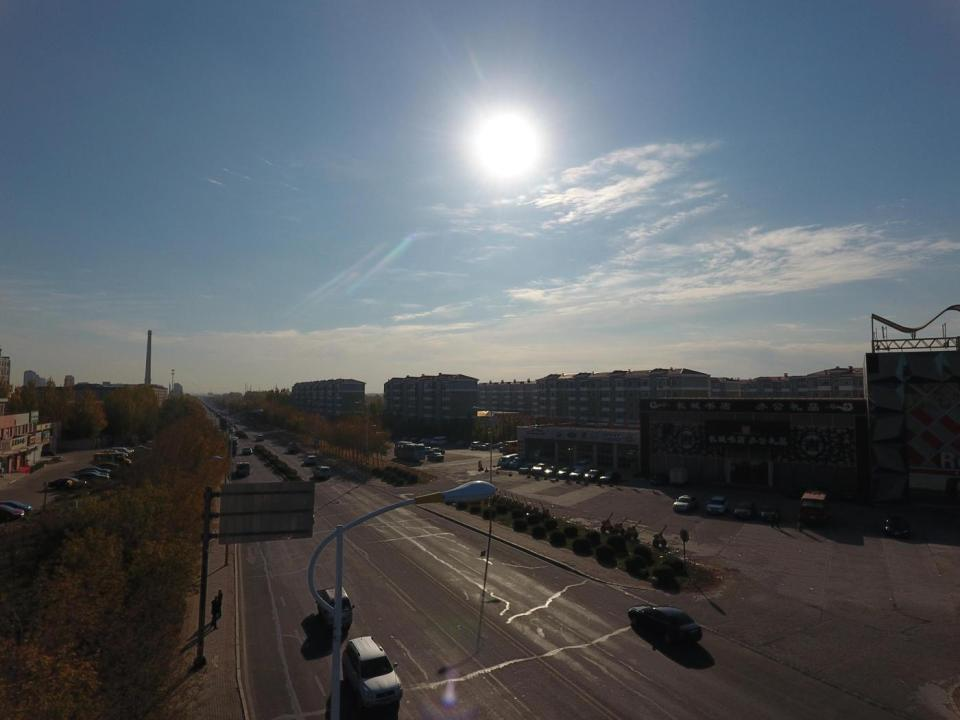bus: (800, 488, 832, 527), (394, 441, 425, 461), (93, 452, 132, 467), (503, 439, 532, 453)
car: (343, 636, 402, 707), (628, 604, 702, 643), (886, 513, 912, 538), (707, 494, 729, 517), (734, 501, 758, 520), (47, 478, 87, 489), (71, 472, 110, 483), (75, 467, 110, 479), (673, 496, 699, 511), (760, 504, 780, 523), (0, 504, 23, 520), (76, 470, 110, 480), (90, 462, 118, 473), (102, 450, 128, 461), (599, 470, 619, 482), (583, 469, 603, 481), (518, 463, 538, 474), (557, 467, 576, 478), (572, 460, 592, 470), (532, 463, 550, 474), (314, 466, 332, 477), (569, 469, 588, 479), (544, 466, 563, 476), (426, 452, 445, 462), (500, 443, 516, 453), (36, 450, 55, 458), (130, 446, 153, 452), (303, 455, 317, 464), (420, 446, 435, 454), (429, 448, 445, 454), (480, 442, 493, 449), (471, 441, 484, 448), (424, 439, 437, 446), (401, 437, 414, 444), (455, 441, 469, 447), (242, 447, 252, 455), (410, 438, 422, 444), (419, 439, 431, 444), (256, 435, 264, 441), (234, 421, 239, 424)
truck: (316, 586, 353, 626), (669, 466, 691, 488), (221, 436, 238, 458), (235, 462, 251, 476), (650, 473, 669, 484), (287, 442, 300, 454)
van: (0, 500, 32, 513), (498, 454, 519, 468), (509, 455, 530, 468), (110, 448, 133, 458), (430, 436, 448, 447)
